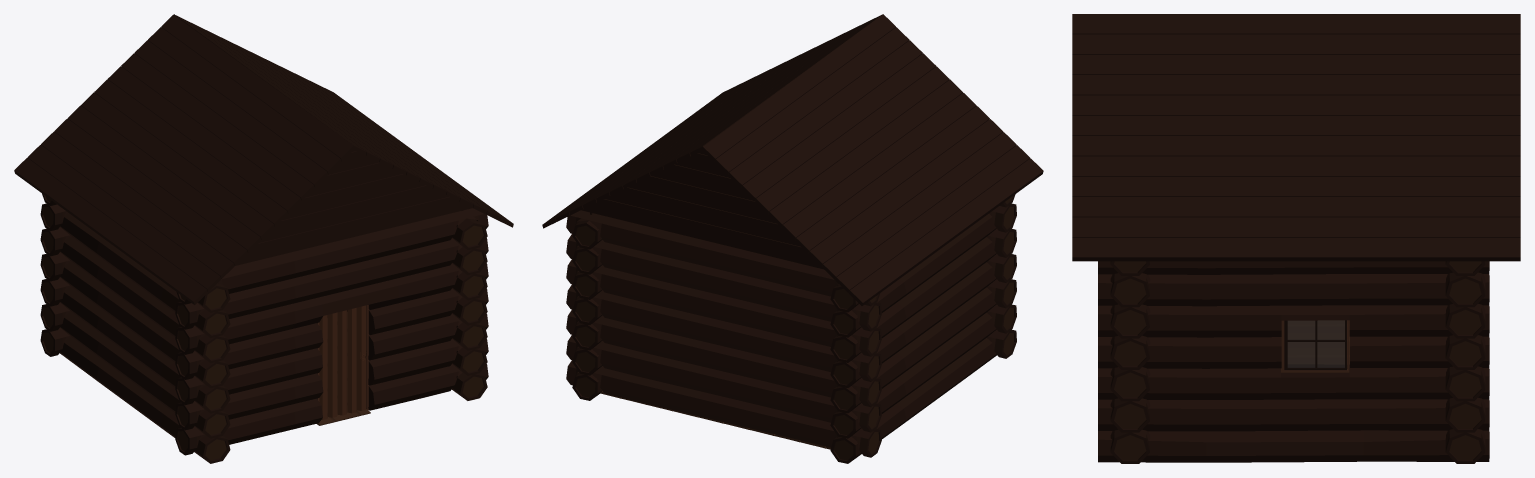
Rendered from cabin.obj.
3 renders of one model, left to right at view 1: azimuth 30°, elevation 25°; view 2: azimuth 150°, elevation 25°; view 3: azimuth 270°, elevation 25°, orthographic. The views are drawn at different scales.
Visible parts, largest first — view 1: LogHutV1.1, RoofV1.1, LogDoorV1.1, FloorV1.1; view 2: LogHutV1.1, RoofV1.1, FloorV1.1; view 3: RoofV1.1, LogHutV1.1, WindowV1.1, FloorV1.1.
Part boxes in pixels (<box>): LogHutV1.1: <box>40,193,488,463</box>; RoofV1.1: <box>14,14,513,304</box>; LogDoorV1.1: <box>319,305,366,419</box>; FloorV1.1: <box>316,312,370,425</box>; LogHutV1.1: <box>566,194,1016,463</box>; RoofV1.1: <box>542,14,1043,305</box>; FloorV1.1: <box>600,391,830,449</box>; RoofV1.1: <box>1072,14,1520,261</box>; LogHutV1.1: <box>1098,261,1489,463</box>; WindowV1.1: <box>1284,320,1346,370</box>; FloorV1.1: <box>1287,320,1349,364</box>.
Size of the model in its own units: 13.73 by 12.06 by 13.38.
